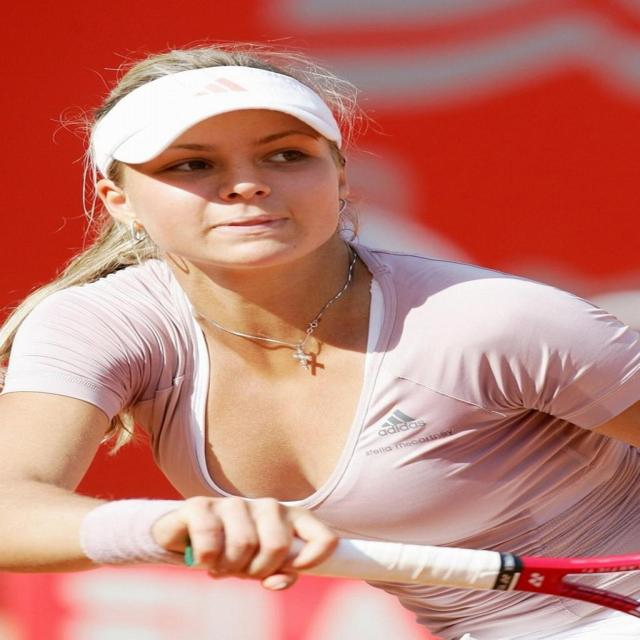Face: (108, 83, 374, 282)
